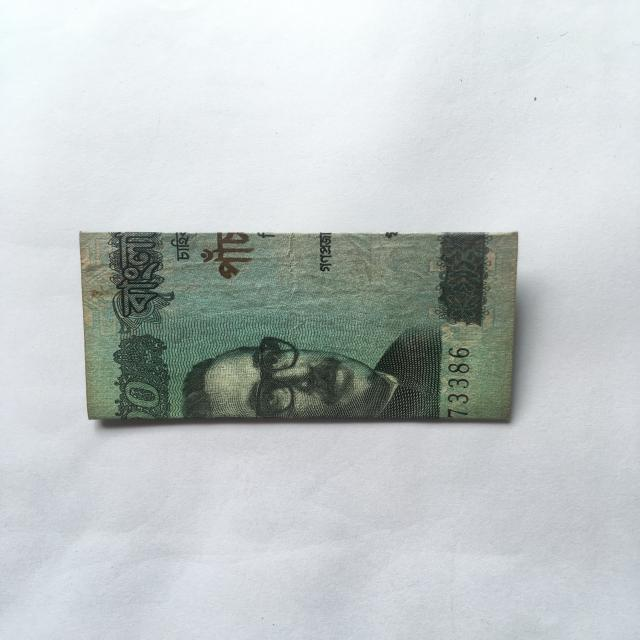Taka: (72, 221, 508, 434)
